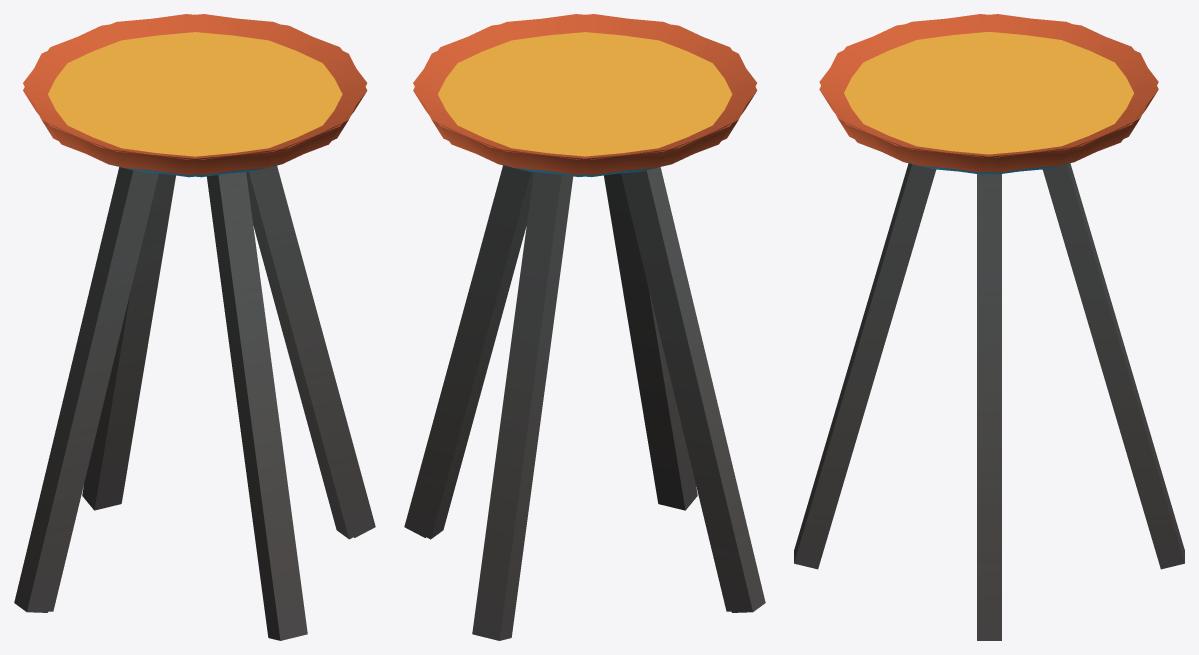
The model's file is Candlestick.fbx.
3 views of the same model, side by side, from view 1: azimuth 30°, elevation 25°; view 2: azimuth 150°, elevation 25°; view 3: azimuth 270°, elevation 25° (orthographic).
Parts seen in each view (by area): view 1: Candlestick; view 2: Candlestick; view 3: Candlestick.
Part boxes in pixels (x1,y1,x2,y2): Candlestick: [14, 14, 375, 640]; Candlestick: [404, 14, 765, 640]; Candlestick: [794, 14, 1184, 640].
Bounding box in the file's own units: 79.09 × 105 × 77.87.
